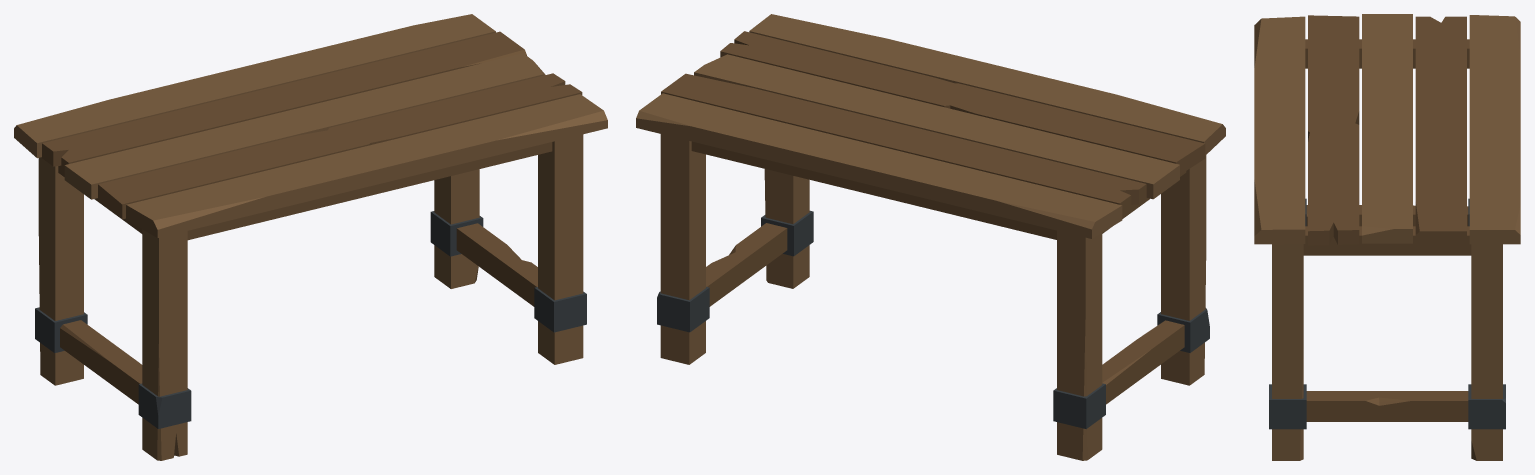
File: Furniture_06.fbx
The picture shows the model from 3 angles, left to right: view 1: azimuth 30°, elevation 25°; view 2: azimuth 150°, elevation 25°; view 3: azimuth 270°, elevation 25°; orthographic projection. The views are drawn at different scales.
Parts seen in each view (by area): view 1: Furniture_06; view 2: Furniture_06; view 3: Furniture_06.
Boxes of the visible parts, x1,y1,x2,y2 form: Furniture_06: [14, 14, 607, 460]; Furniture_06: [636, 14, 1225, 460]; Furniture_06: [1254, 14, 1520, 460].
Size of the model in its own units: 161 by 82.44 by 83.62.
